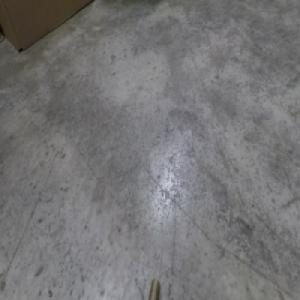Bolt: (149, 275, 159, 299)
